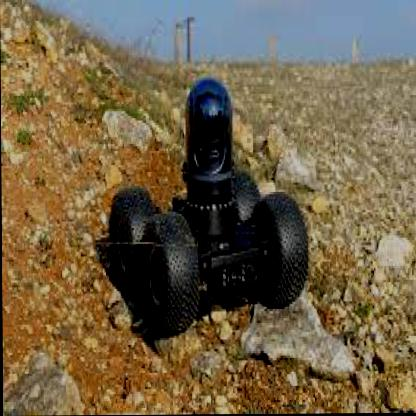UGV: (107, 76, 309, 337)
